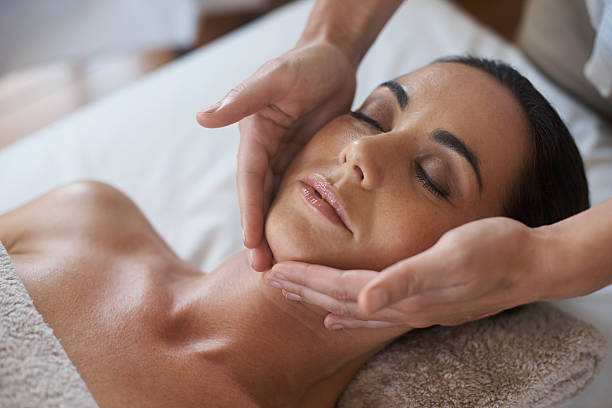without mask: (260, 58, 546, 311)
